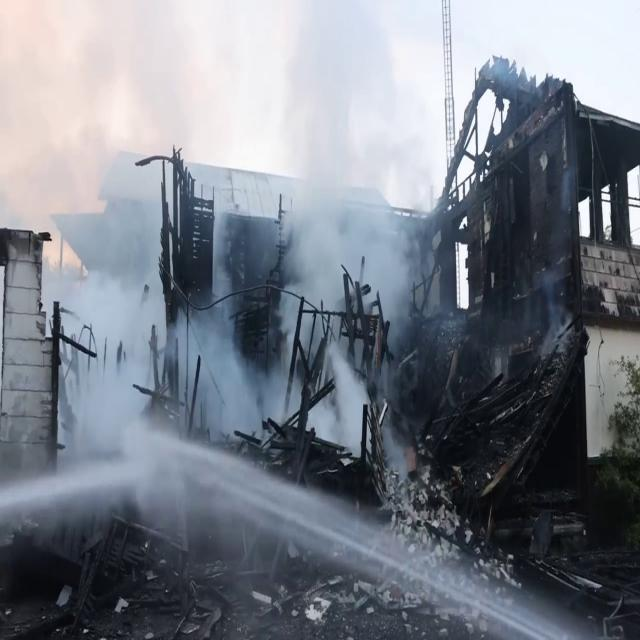Smoke: (0, 185, 361, 548)
